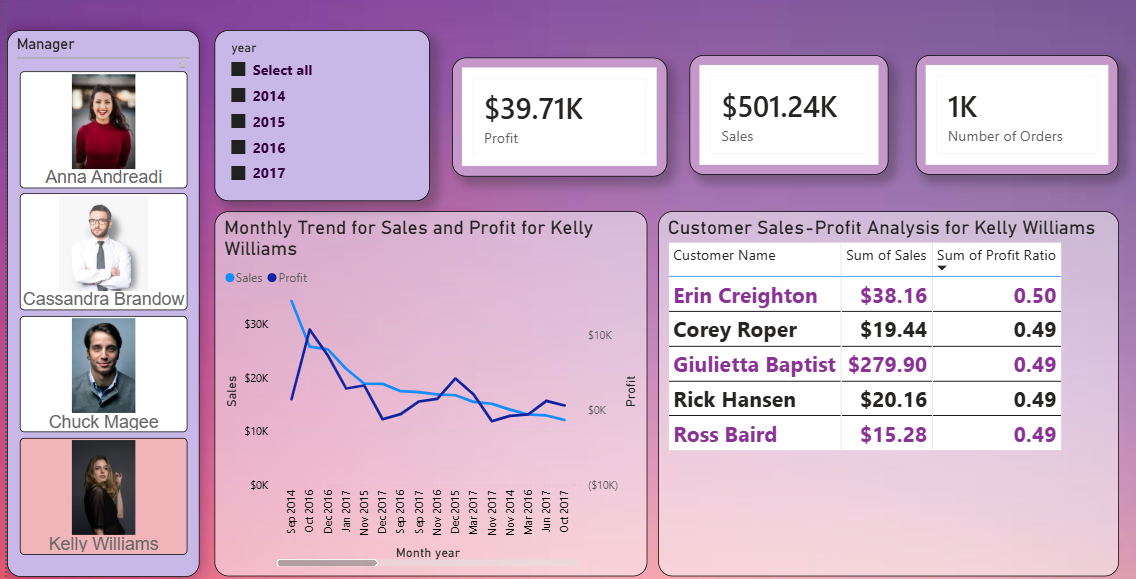

The page's visual inventory and layout, read from the dashboard file:
{"tool":"powerbi","page":{"name":"Report 1 – Manager Sales Snapshot","canvas":[1280,720],"ordinal":0},"visuals":[{"type":"ChicletSlicer1448559807354","title":"Manager","fields":{"Category":["People (2).Person"],"Image":["People (2).url"]},"box":[0,89.8,216.2,613.5],"z":0},{"type":"lineChart","fields":{"Category":["Orders.Month year"],"Y":["Sum(Orders.Sales)"],"Y2":["Sum(Orders.Profit)"]},"box":[233,293.4,485.7,409.9],"z":1000},{"type":"slicer","fields":{"Values":["Orders.year"]},"box":[233,89.8,241.5,192.3],"z":2000},{"type":"tableEx","fields":{"Values":["Orders.Customer Name","Sum(Orders.Sales)","Sum(Orders.Profit Ratio)"]},"box":[730,293.4,516.6,409.9],"z":3000},{"type":"cardVisual","fields":{"Data":["Sum(Orders.Sales)"]},"box":[765.1,117.9,223.2,134.8],"z":4000},{"type":"cardVisual","fields":{"Data":["Orders.Number of Orders"]},"box":[1019.2,117.9,227.4,134.8],"z":5000},{"type":"cardVisual","fields":{"Data":["Sum(Orders.Profit)"]},"box":[499.8,120.7,241.5,133.4],"z":6000}]}

Visuals, with their boxes on the page's 1280x720 design canvas (x1, y1, x2, y2). These are canvas units, not pixel positions in the 1136x579 screenshot, which may show the page scaled, cropped or inside an application window:
"Manager" ChicletSlicer1448559807354: region(0, 90, 216, 703)
lineChart - Orders.Month year x Sum(Orders.Sales): region(233, 293, 719, 703)
slicer - Orders.year: region(233, 90, 474, 282)
tableEx - Orders.Customer Name x Sum(Orders.Sales): region(730, 293, 1247, 703)
cardVisual - Sum(Orders.Sales): region(765, 118, 988, 253)
cardVisual - Orders.Number of Orders: region(1019, 118, 1247, 253)
cardVisual - Sum(Orders.Profit): region(500, 121, 741, 254)
